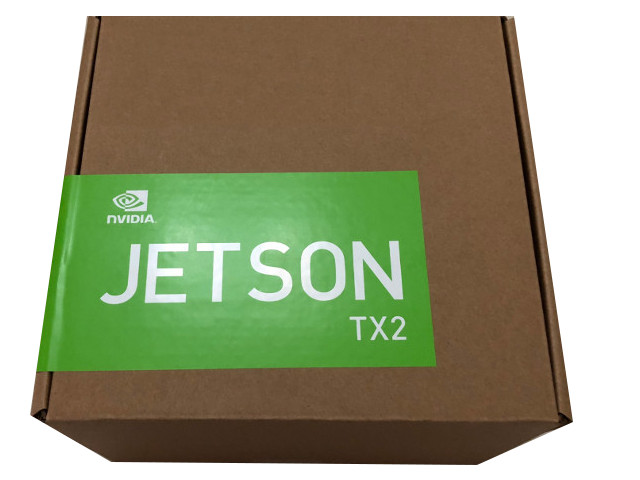cardboard: (27, 12, 572, 462)
